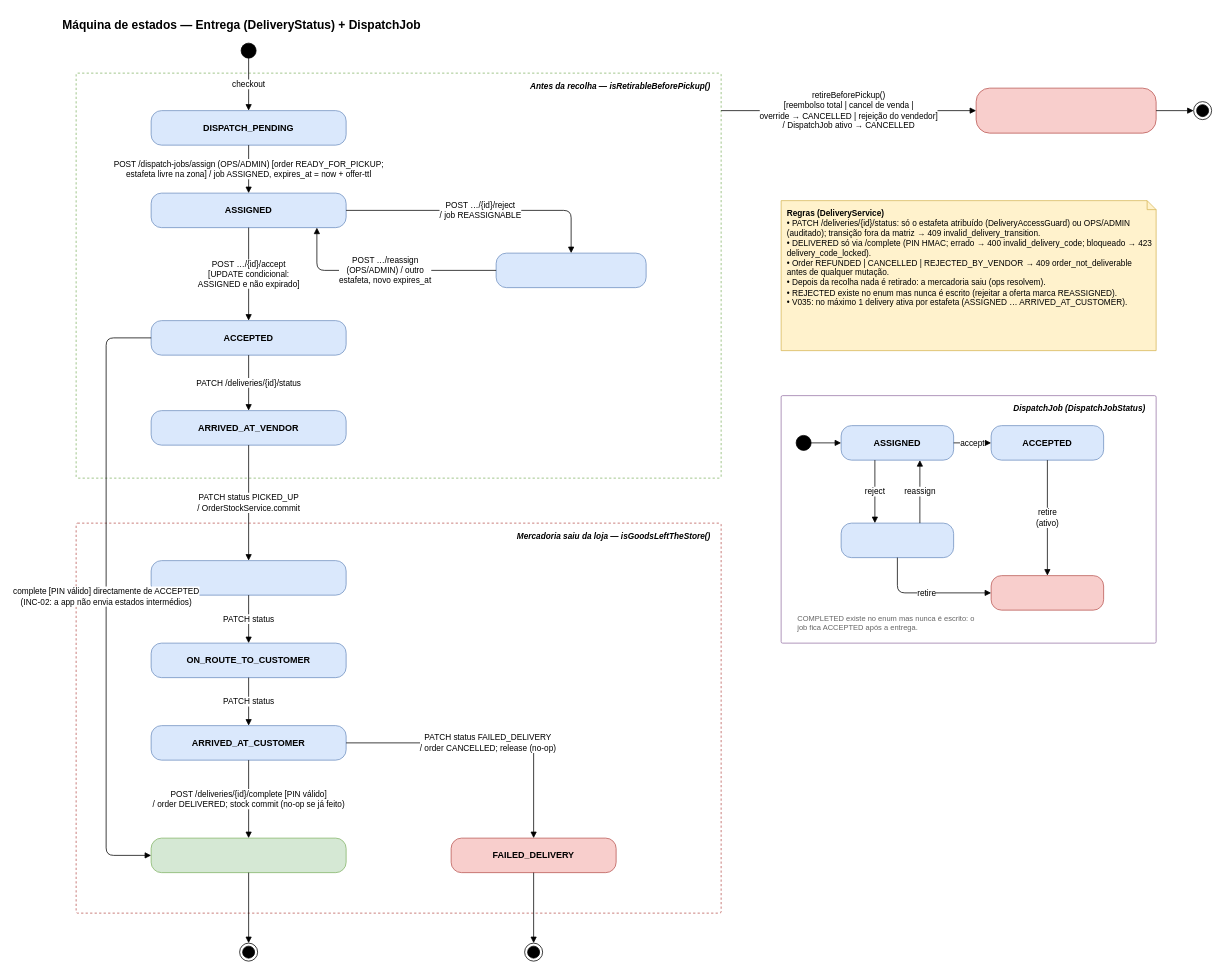
Image size: 1225x974. Some labels were removed from this diagram. The centre of each missing label's shape, as x and y in pixels:
CANCELLED: [1047,592]
CANCELLED (delivery retirada): [1065,110]
DELIVERED: [248,855]
PICKED_UP: [248,577]
REASSIGNABLE: [897,540]
REASSIGNED: [570,270]
